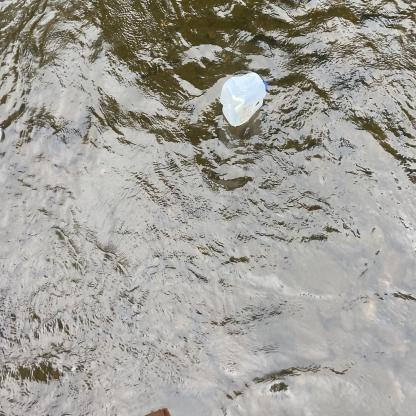trash: (213, 65, 275, 134)
